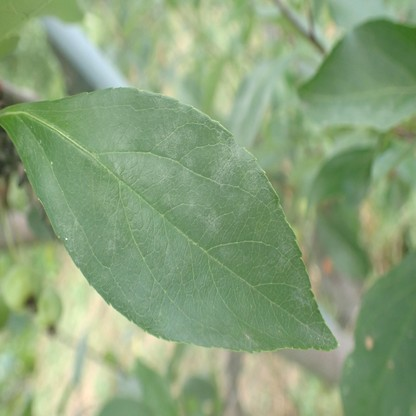powdery_mildew: (2, 87, 342, 352)
